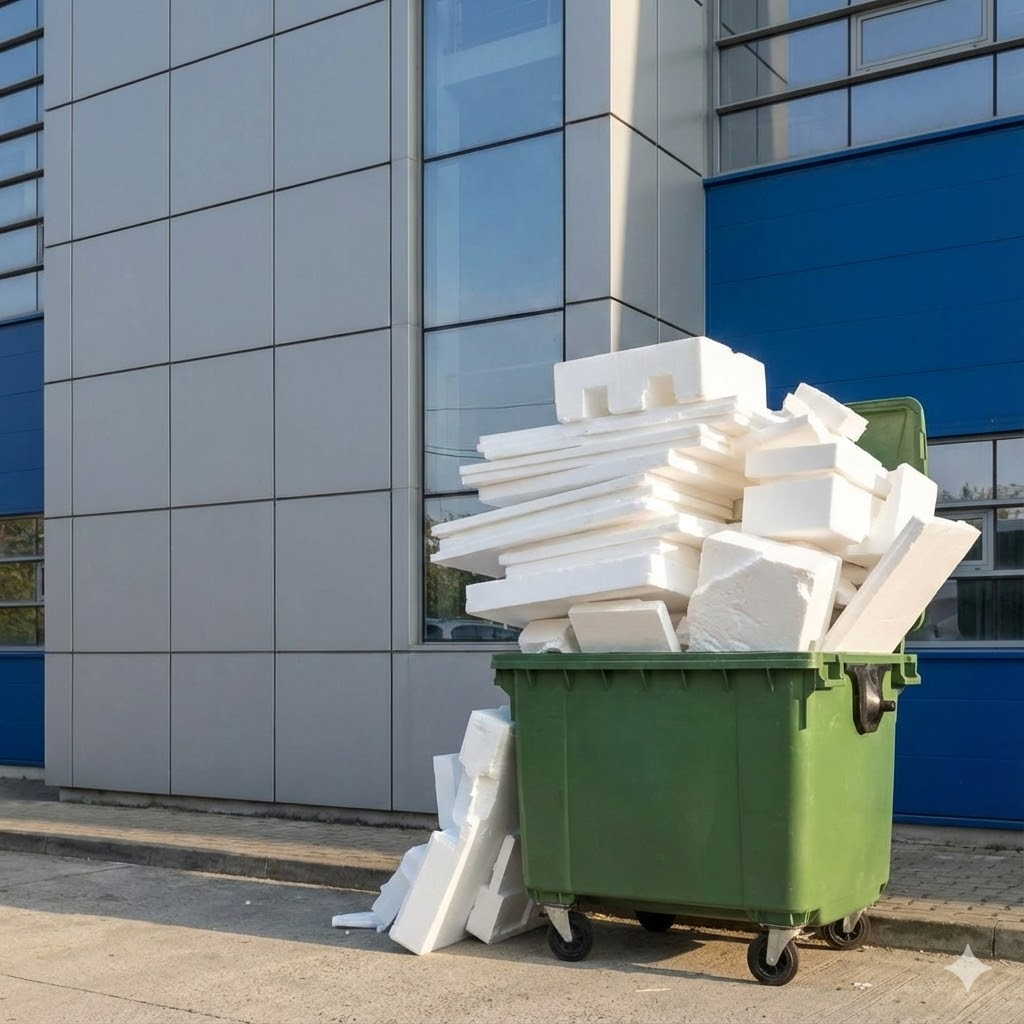bin_full: (434, 339, 975, 984)
bulk_waste: (391, 707, 517, 954)
